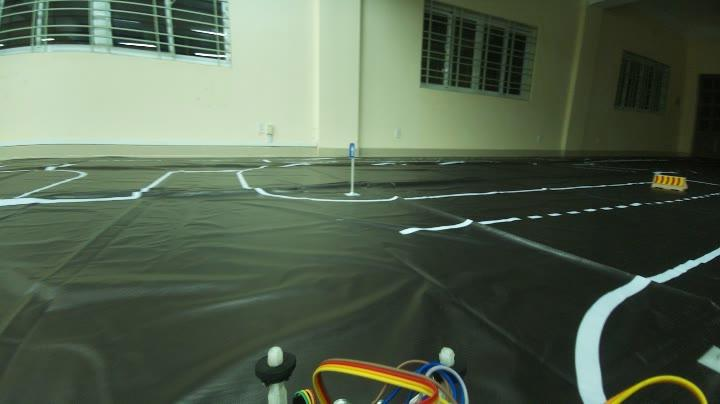onewayroad: (344, 140, 358, 158)
